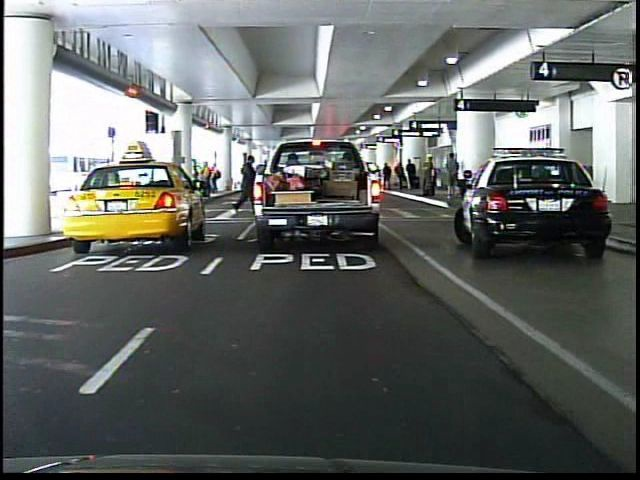person: (232, 152, 256, 212), (296, 145, 320, 204)
